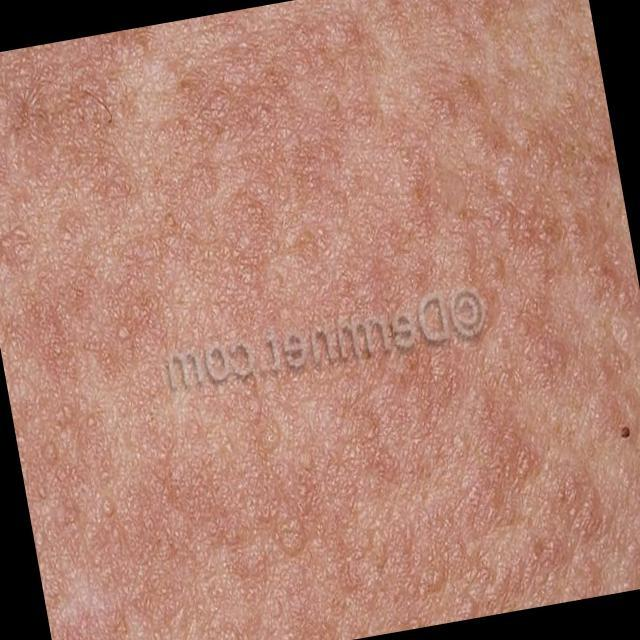Eczema: (1, 25, 633, 588)
